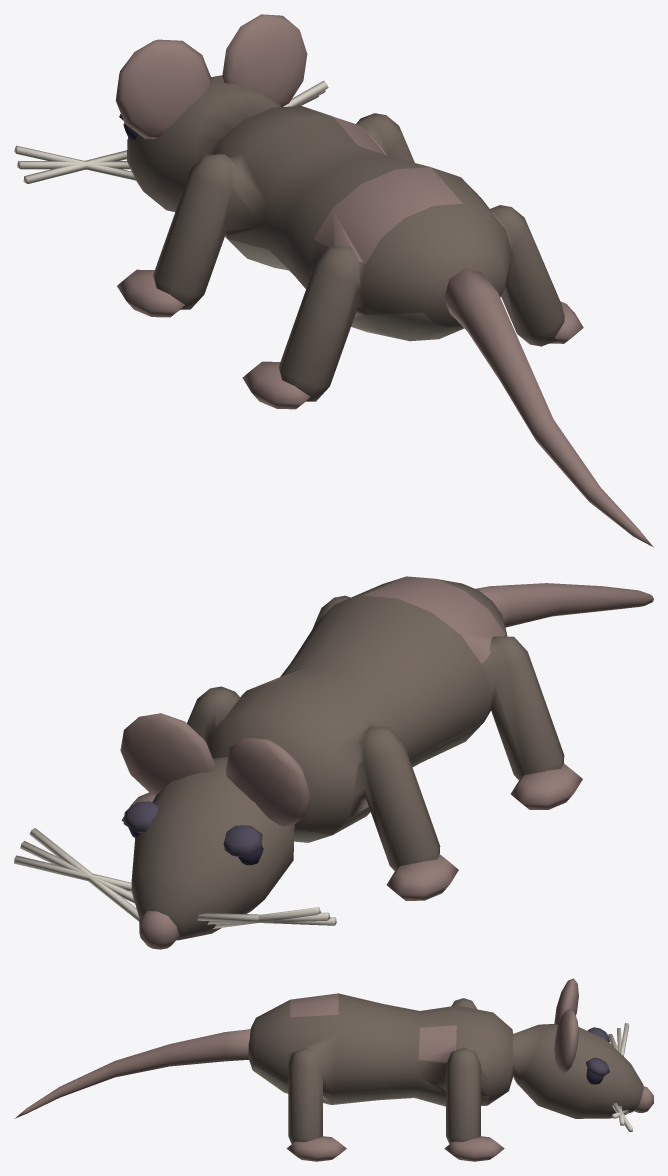
Rendered from rat.glb.
3 renders of one model, top to bottom at view 1: azimuth 30°, elevation 25°; view 2: azimuth 150°, elevation 25°; view 3: azimuth 270°, elevation 25°, orthographic. The views are drawn at different scales.
Visible parts, largest first — view 1: Body, Tail; view 2: Body, Tail; view 3: Body, Tail.
Boxes of the visible parts, left/top/right/bottom form: Body: left=14, top=14, right=583, bottom=409; Tail: left=443, top=268, right=653, bottom=547; Body: left=14, top=576, right=582, bottom=949; Tail: left=476, top=583, right=653, bottom=627; Body: left=248, top=978, right=653, bottom=1161; Tail: left=14, top=1029, right=250, bottom=1118.
Bounding box in the file's own units: 0.128 × 0.0738 × 0.3488.
